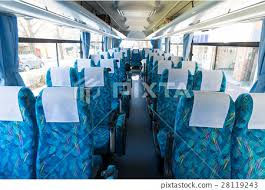seat: (81, 69, 121, 154)
